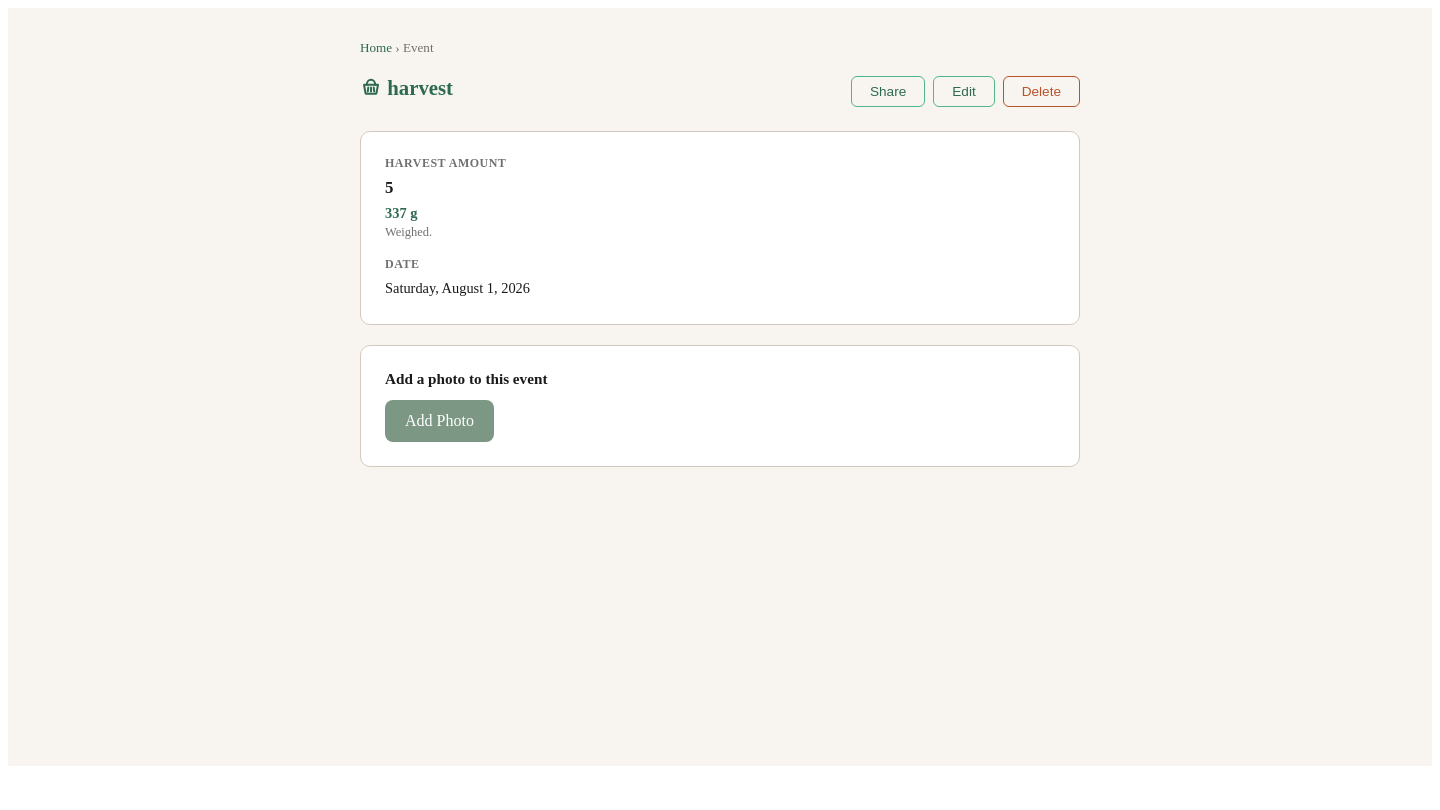
Test: EventDetail — weight box seeding › seeds from a weight the user typed (measured, non-weight unit)
Step 1. Click the button "Edit" → (964, 92), box [933, 76, 995, 107]
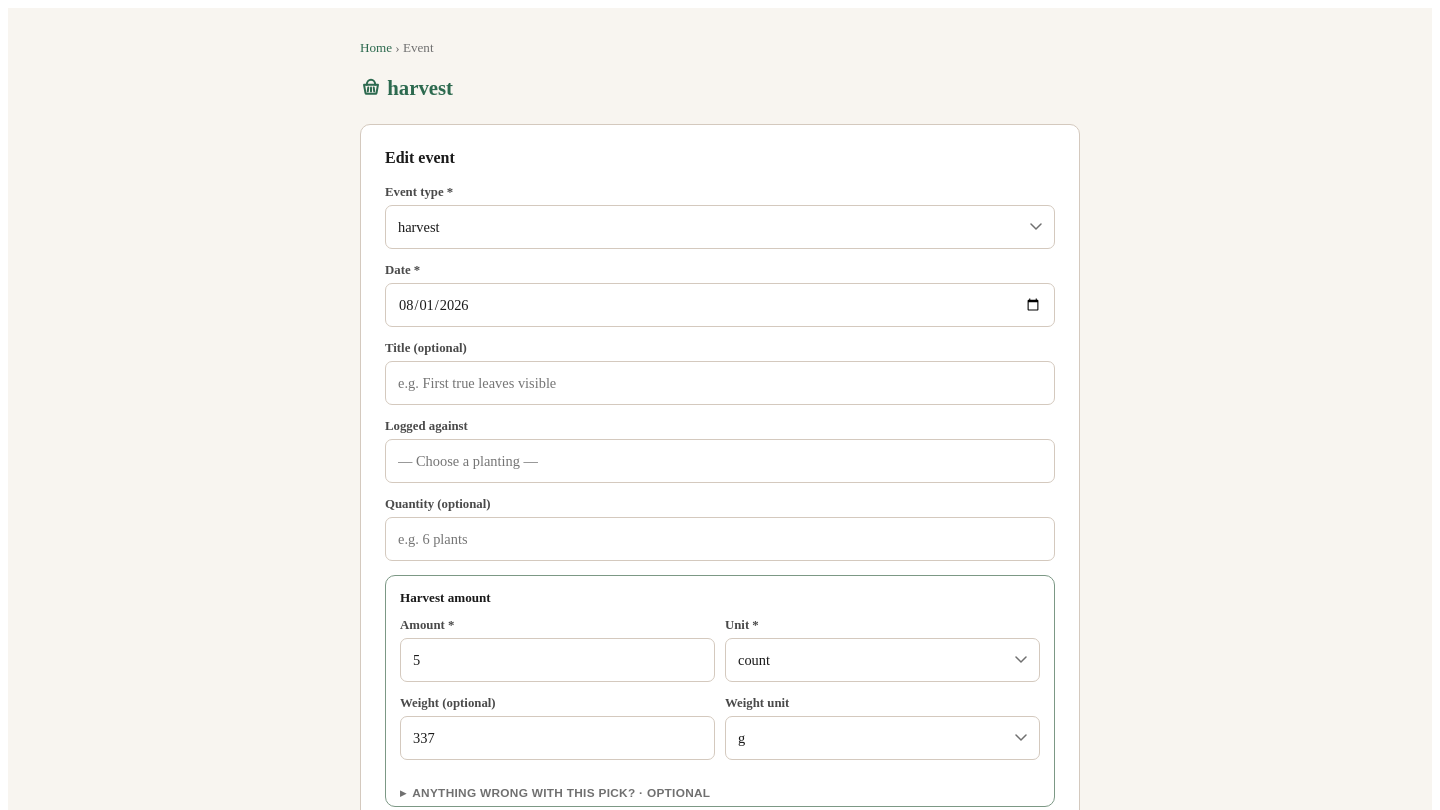
Result: the number field labelled "Weight (optional)" holds "337" at [400, 716, 715, 760]
